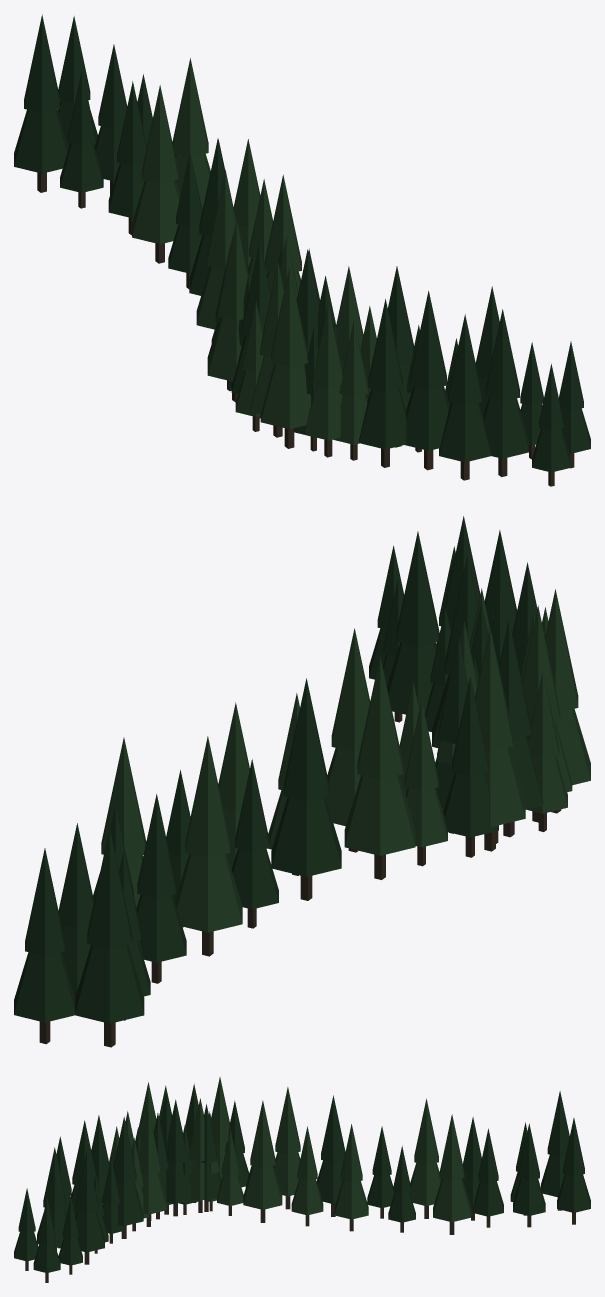
File: forest_edge_17.glb
3 renders of one model, top to bottom at view 1: azimuth 30°, elevation 25°; view 2: azimuth 150°, elevation 25°; view 3: azimuth 270°, elevation 25°, orthographic. The views are drawn at different scales.
Parts seen in each view (by area): view 1: chunk_0_0; view 2: chunk_0_0; view 3: chunk_0_0.
Boxes of the visible parts, box(x1,y1,x2,y2) form: chunk_0_0: box(14, 14, 590, 486); chunk_0_0: box(14, 516, 590, 1047); chunk_0_0: box(14, 1077, 590, 1282).
Size of the model in its own units: 41.02 by 32.06 by 117.
